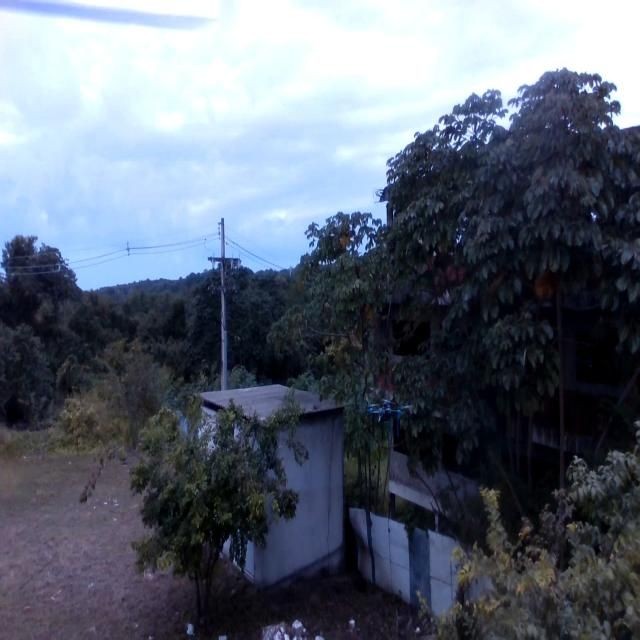-uav-: (360, 387, 418, 453)
